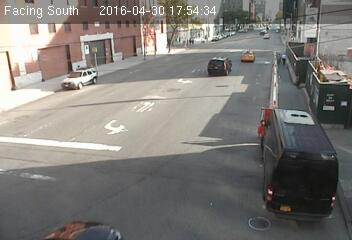neg: (210, 87, 232, 116), (157, 62, 172, 82), (178, 126, 187, 137), (196, 49, 202, 57)
pos: (277, 51, 289, 66), (274, 54, 283, 66)
